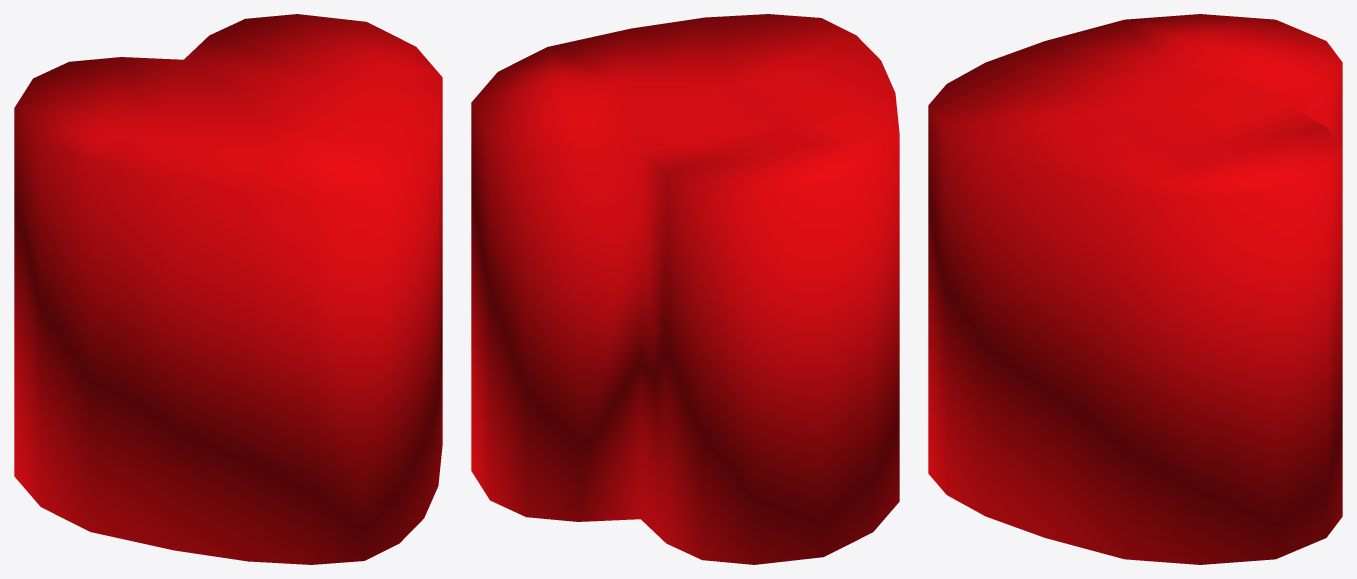
Rendered from Recovery.fbx.
3 renders of one model, left to right at view 1: azimuth 30°, elevation 25°; view 2: azimuth 150°, elevation 25°; view 3: azimuth 270°, elevation 25°, orthographic.
Parts seen in each view (by area): view 1: 立方体; view 2: 立方体; view 3: 立方体.
Boxes of the visible parts, <box> form: 立方体: <box>14,14,442,564</box>; 立方体: <box>471,14,899,564</box>; 立方体: <box>928,14,1342,564</box>.
Bounding box in the file's own units: 2.13 × 2 × 2.04.
